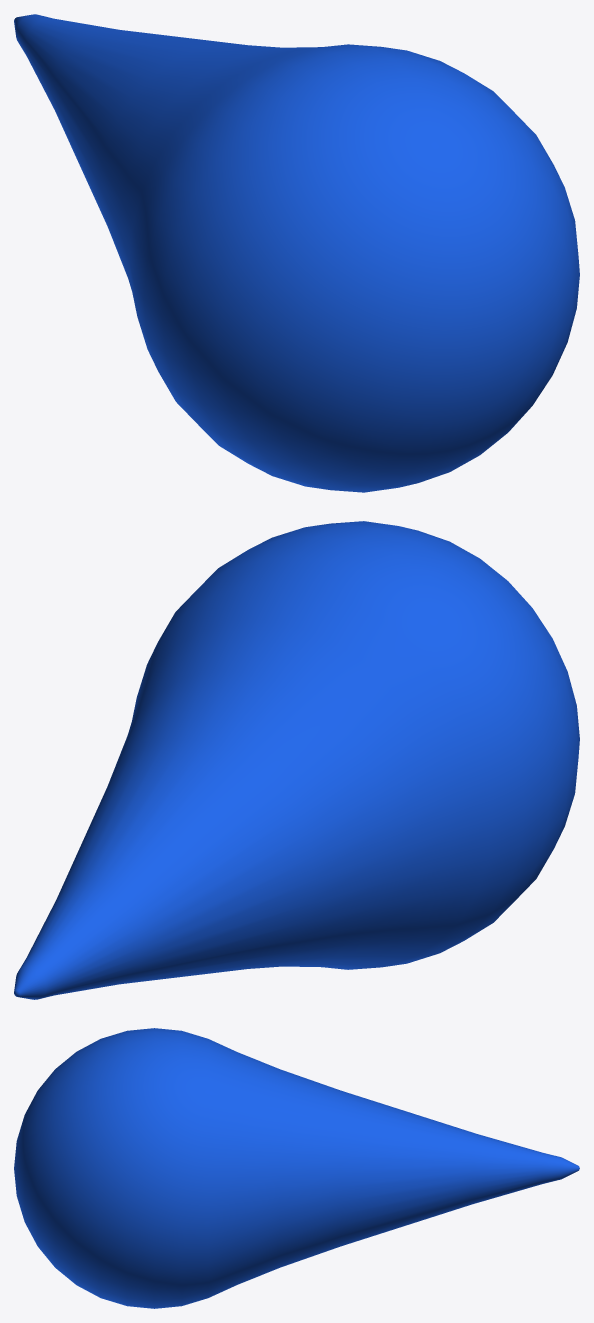
Rendered from Vaesmon1.fbx.
3 renders of one model, top to bottom at view 1: azimuth 30°, elevation 25°; view 2: azimuth 150°, elevation 25°; view 3: azimuth 270°, elevation 25°, orthographic. The views are drawn at different scales.
Visible parts, largest first — view 1: Sphere.005; view 2: Sphere.005; view 3: Sphere.005.
Part boxes in pixels (bbox=[...]): Sphere.005: bbox=[14, 14, 579, 492]; Sphere.005: bbox=[14, 521, 579, 999]; Sphere.005: bbox=[14, 1028, 579, 1308].
Size of the model in its own units: 189 by 189 by 380.
